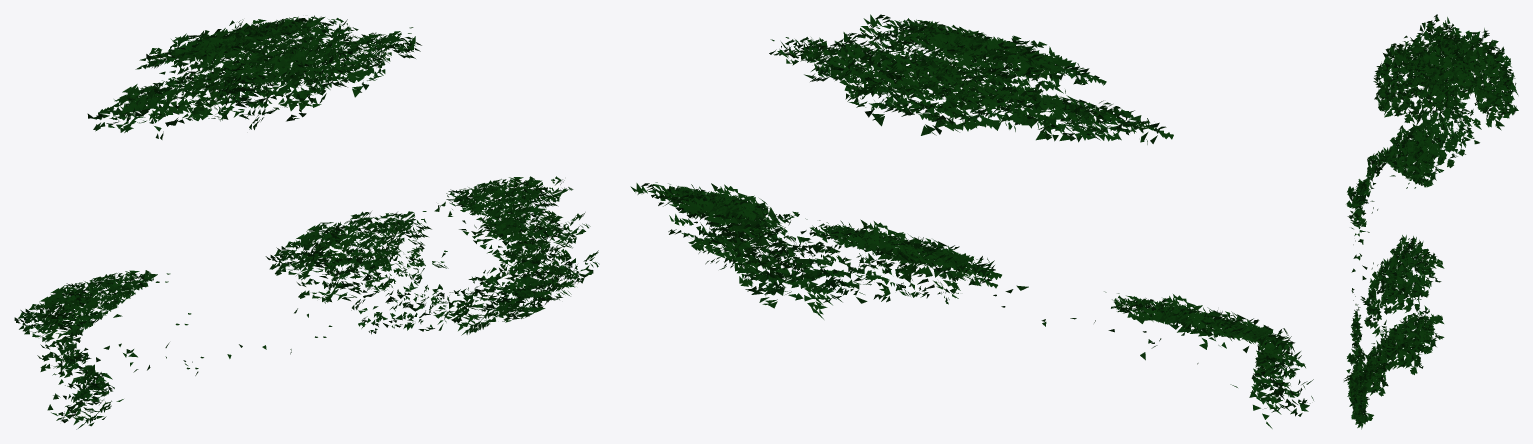
Rendered from 12_openskp_material_63.obj.
3 renders of one model, left to right at view 1: azimuth 30°, elevation 25°; view 2: azimuth 150°, elevation 25°; view 3: azimuth 270°, elevation 25°, orthographic. The views are drawn at different scales.
Parts seen in each view (by area): view 1: 12_openskp_material_63; view 2: 12_openskp_material_63; view 3: 12_openskp_material_63.
Boxes of the visible parts, <box> form: 12_openskp_material_63: <box>14,15,599,429</box>; 12_openskp_material_63: <box>630,14,1313,428</box>; 12_openskp_material_63: <box>1344,14,1518,429</box>.
Size of the model in its own units: 61.35 by 32.7 by 18.82.
